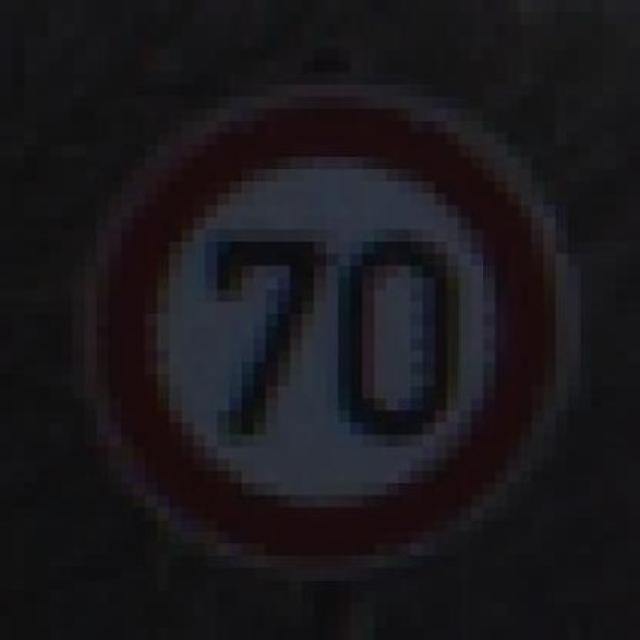forb_speed_over_70: (105, 98, 552, 564)
